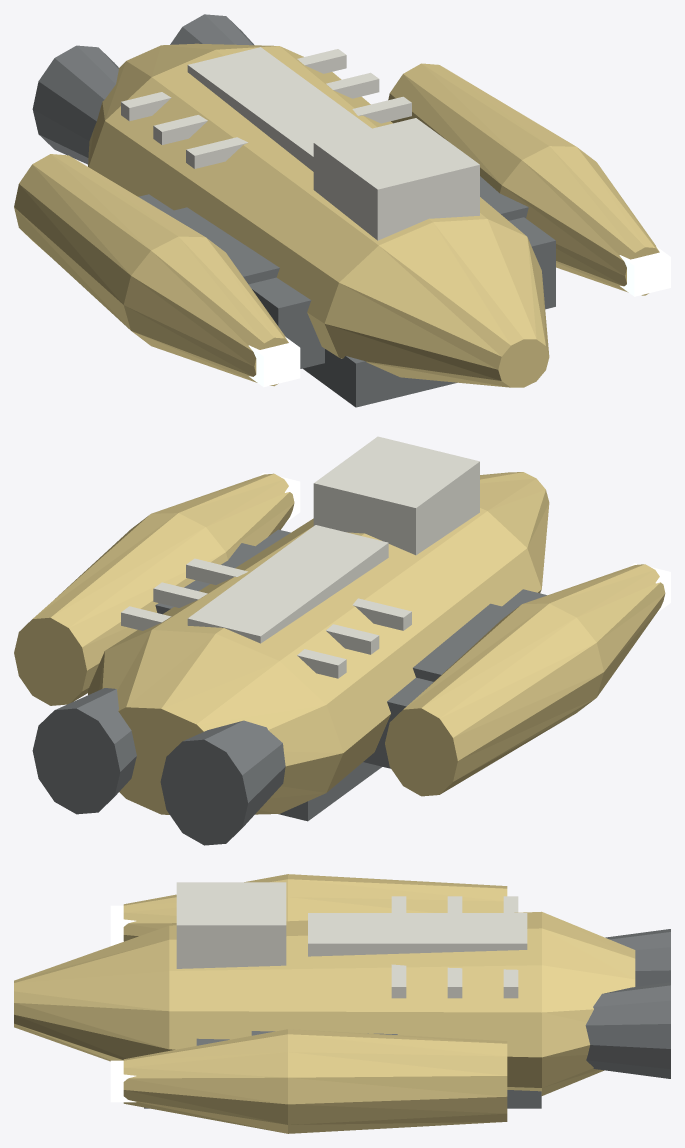
3 renders of one model, top to bottom at view 1: azimuth 30°, elevation 25°; view 2: azimuth 150°, elevation 25°; view 3: azimuth 270°, elevation 25°, orthographic. The views are drawn at different scales.
Bounding box in the file's own units: 4.79 × 1.95 × 6.62.
